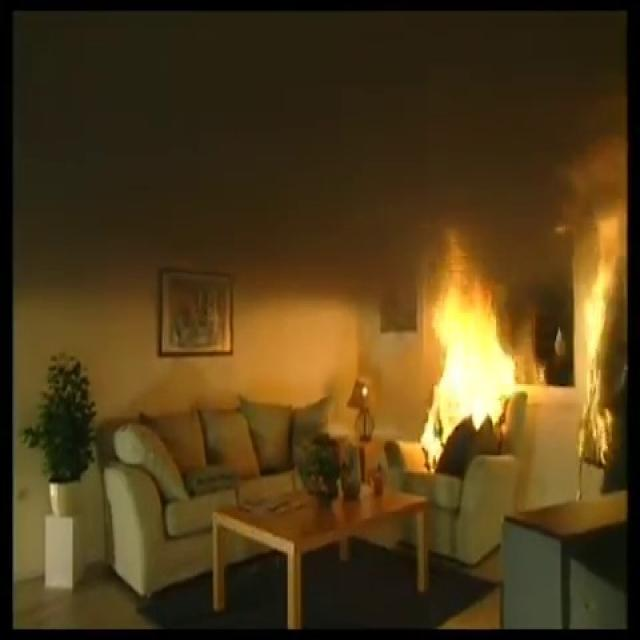Fire: (386, 8, 630, 463)
Smoke: (40, 5, 348, 243)
